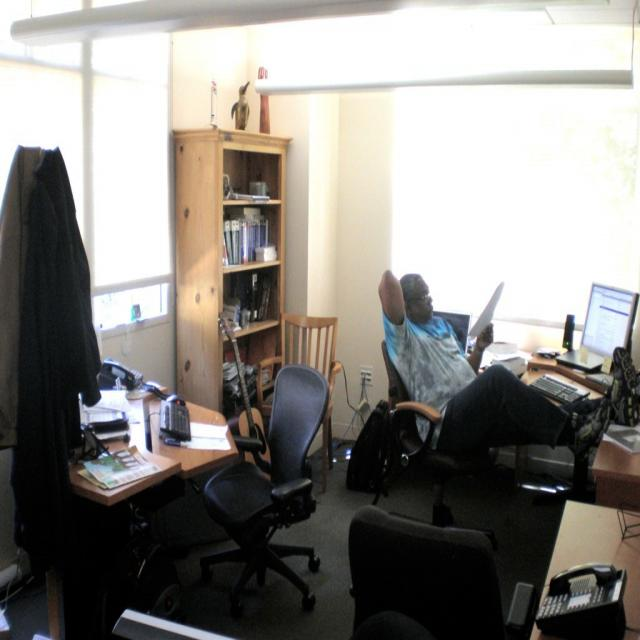chair: (198, 367, 333, 619), (348, 507, 536, 639), (381, 340, 495, 523), (258, 312, 341, 482)
desk: (56, 366, 309, 619)
keyboard: (530, 373, 590, 404)
laptop: (554, 282, 638, 374), (466, 281, 505, 349)
person: (387, 273, 592, 457)
